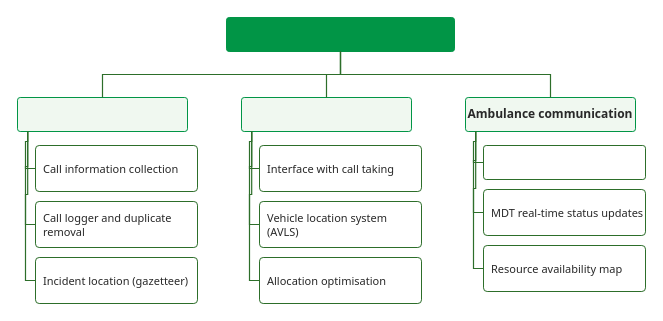
The diagram is 663 pixels wide and 321 high, and some of its shapes have lost their labels. The centre of each missing label's shape, as x and y in pixels:
"Ambulance allocation" belongs at (x=326, y=114).
"Ambulance-dispatch system" belongs at (x=340, y=34).
"Call taking" belongs at (x=102, y=114).
"RIFS integration" belongs at (x=564, y=162).
